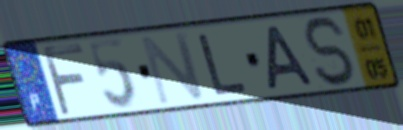5: (85, 36, 140, 112)
A: (264, 24, 317, 92)
F: (38, 42, 90, 119)
L: (196, 31, 251, 97)
N: (138, 29, 208, 107)
S: (300, 14, 361, 89)
